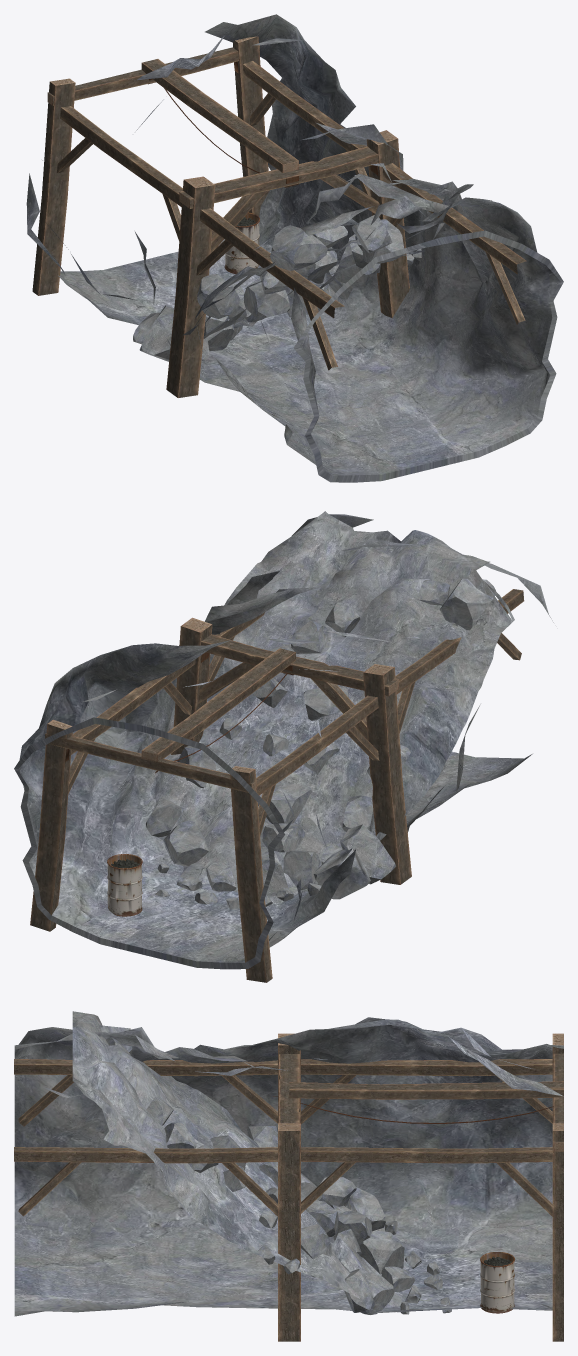
The model's file is mine_tnl_collapse_n.glb.
3 views of the same model, one above another, from view 1: azimuth 30°, elevation 25°; view 2: azimuth 150°, elevation 25°; view 3: azimuth 270°, elevation 25° (orthographic).
Parts seen in each view (by area): view 1: mine_tnl_collapse_LOD0, hobobarrel_LOD0; view 2: mine_tnl_collapse_LOD0, hobobarrel_LOD0; view 3: mine_tnl_collapse_LOD0, hobobarrel_LOD0.
Part boxes in pixels (x1,y1,x2,y2): mine_tnl_collapse_LOD0: [26, 14, 563, 482]; hobobarrel_LOD0: [224, 212, 259, 273]; mine_tnl_collapse_LOD0: [14, 511, 553, 982]; hobobarrel_LOD0: [107, 854, 142, 916]; mine_tnl_collapse_LOD0: [14, 1011, 563, 1341]; hobobarrel_LOD0: [480, 1252, 514, 1313].
Size of the model in its own units: 6.74 by 6.18 by 12.02.
Materials: 5 (5 with a texture image).
